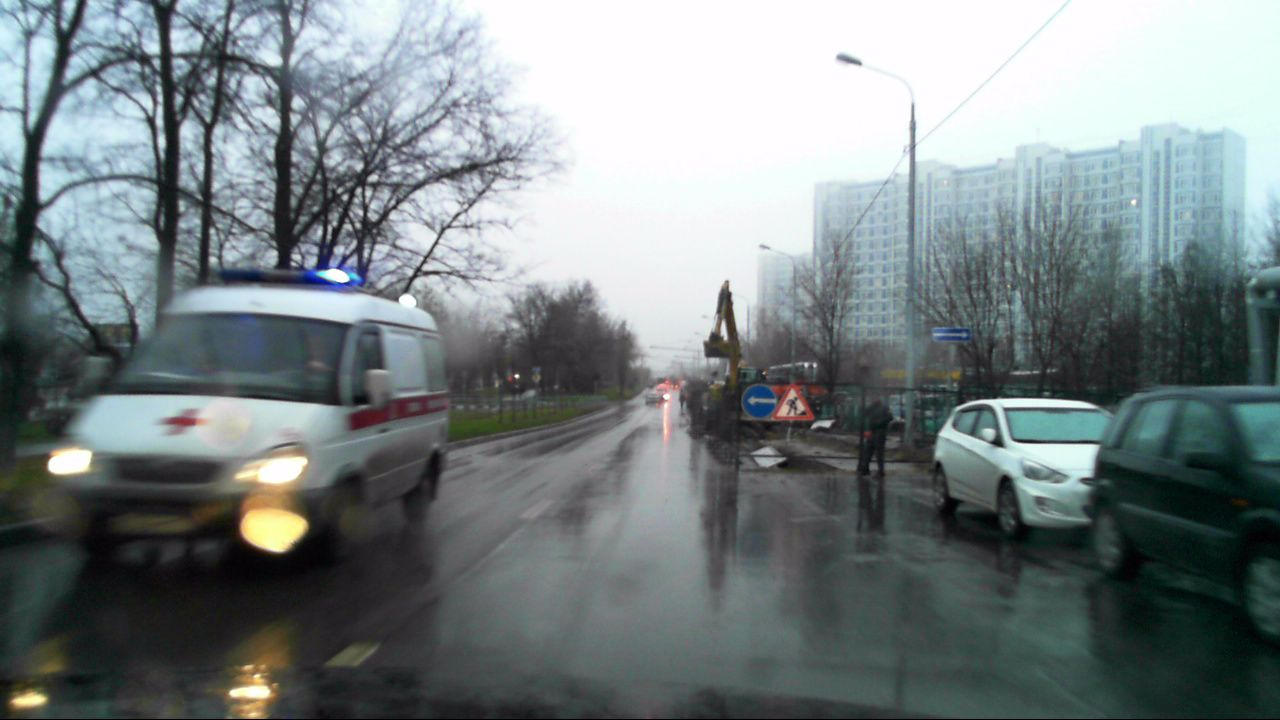One-Way Traffic: (932, 327, 971, 341)
Turn Left: (742, 384, 777, 418)
